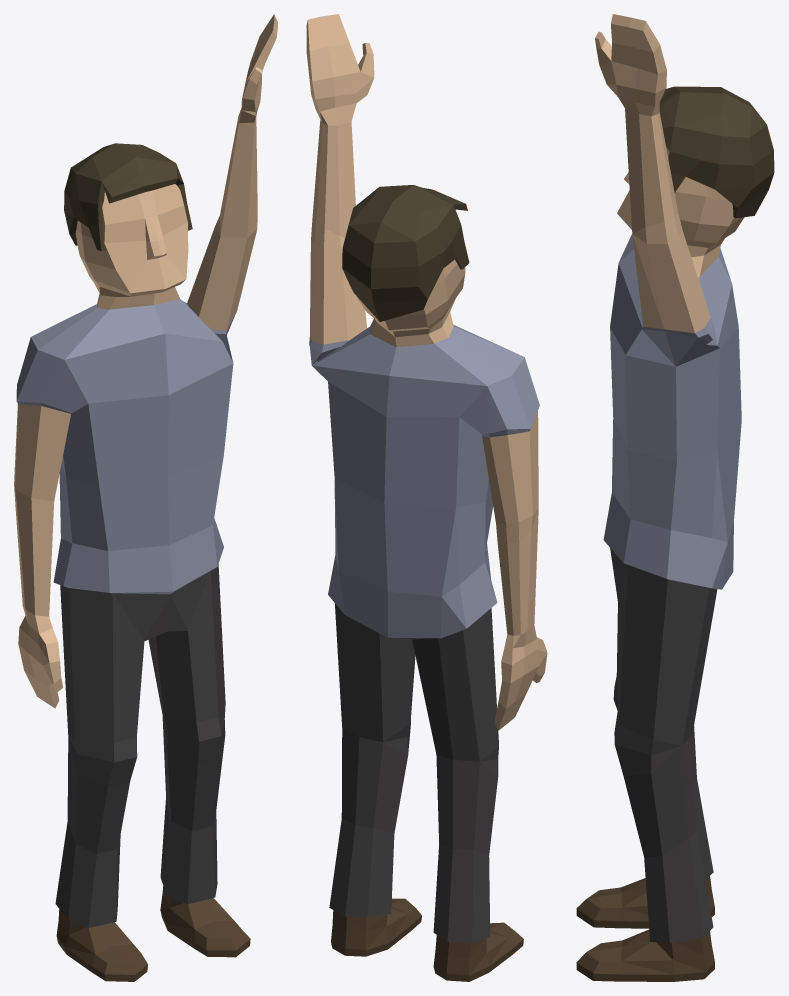
The model's file is Male_Crowd_LeftArmUp.glb.
3 views of the same model, side by side, from view 1: azimuth 30°, elevation 25°; view 2: azimuth 150°, elevation 25°; view 3: azimuth 270°, elevation 25° (orthographic). The views are drawn at different scales.
Visible parts, largest first — view 1: Male_Crowd_LeftArmUp; view 2: Male_Crowd_LeftArmUp; view 3: Male_Crowd_LeftArmUp.
Part boxes in pixels (x1=…): Male_Crowd_LeftArmUp: x1=14, y1=14, x2=277, y2=981; Male_Crowd_LeftArmUp: x1=306, y1=14, x2=547, y2=981; Male_Crowd_LeftArmUp: x1=576, y1=14, x2=774, y2=981.
Size of the model in its own units: 0.5905 by 2.08 by 0.3779.
